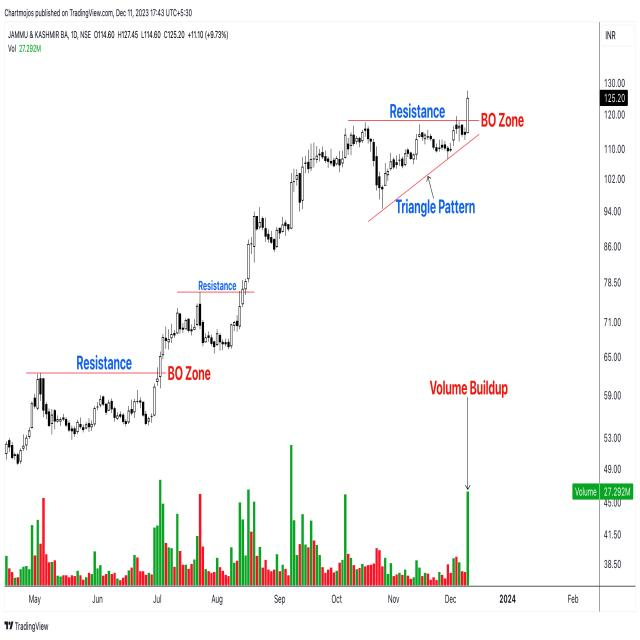Ascending-Triangle: (255, 123, 498, 269)
